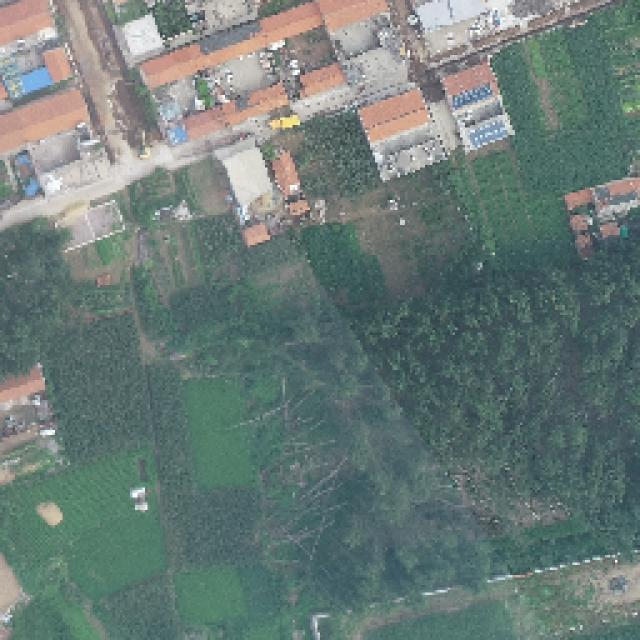Batiment: (140, 2, 322, 88), (442, 64, 514, 151), (564, 178, 640, 258), (184, 84, 287, 139), (1, 93, 88, 153), (359, 89, 429, 146), (0, 0, 54, 44), (0, 364, 45, 403), (300, 62, 346, 97), (272, 150, 301, 197), (42, 48, 72, 82), (242, 222, 270, 247), (564, 189, 592, 211), (288, 200, 310, 217)
